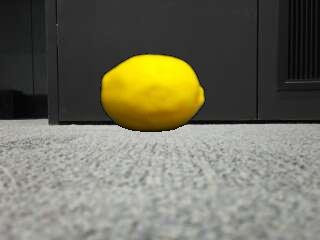lemon: (103, 56, 206, 132)
